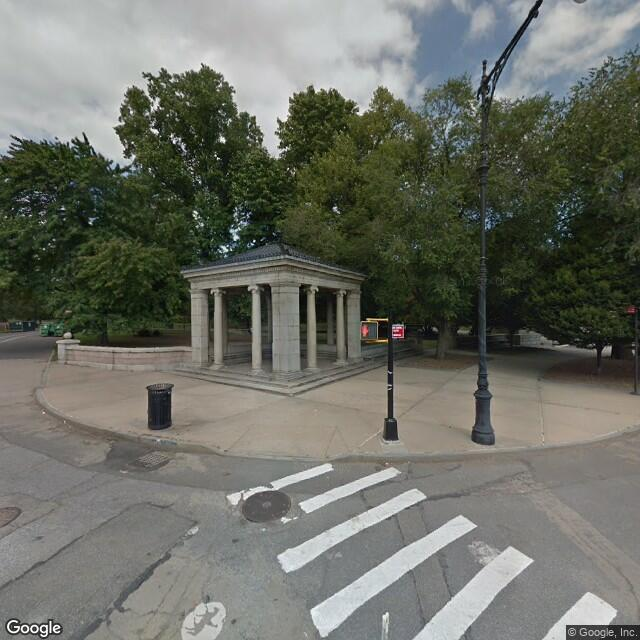litter: (41, 410, 48, 417)
